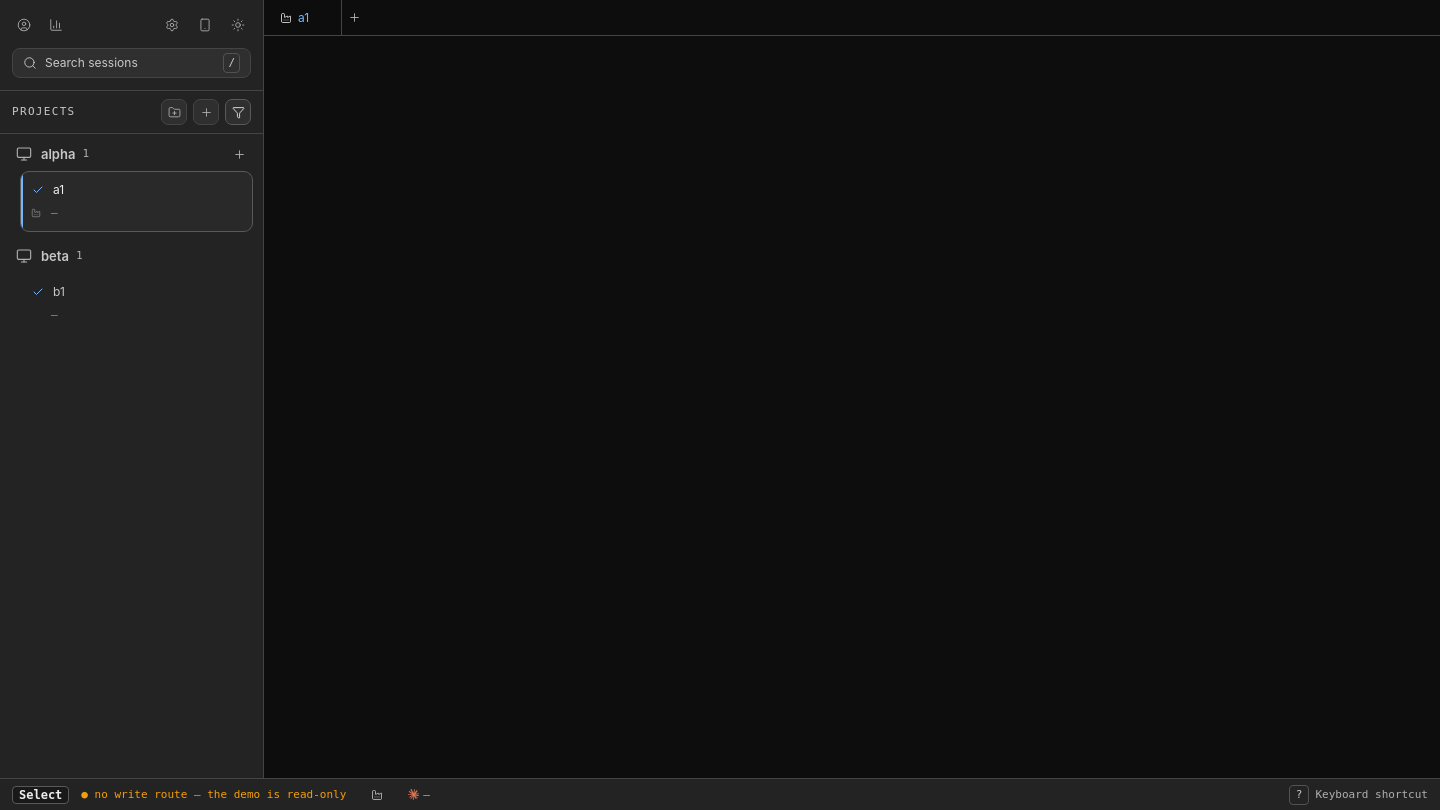
Test: the project heading icon picker › clicking a project icon opens the picker named for that project
Click the button named "change icon for alpha": (24, 154) [14,144,34,164]
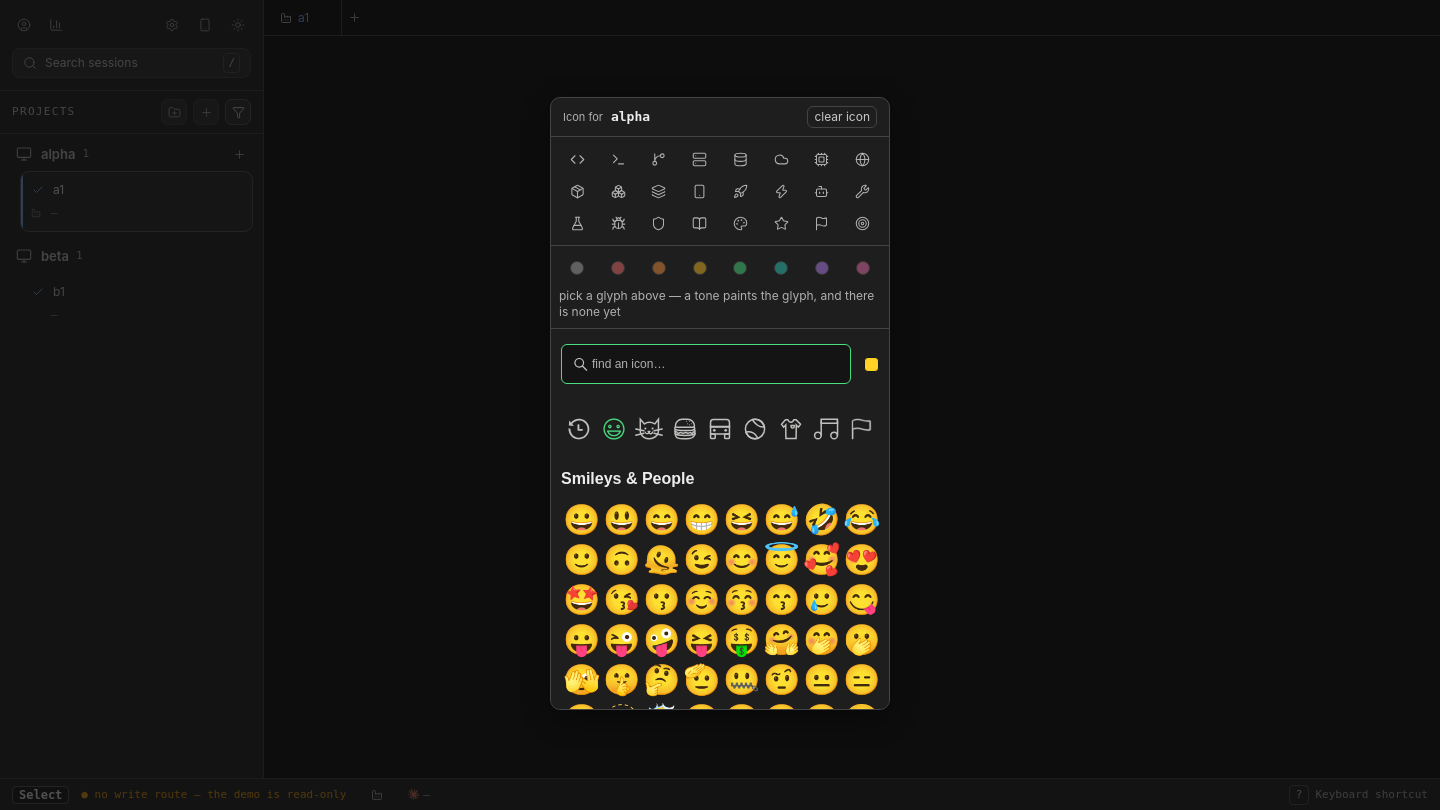
Result: the element that starts with "Icon for" is shown at [550,97,890,710]
Result: the element that starts with "Icon for" shows "alpha" at [611,109,650,124]
